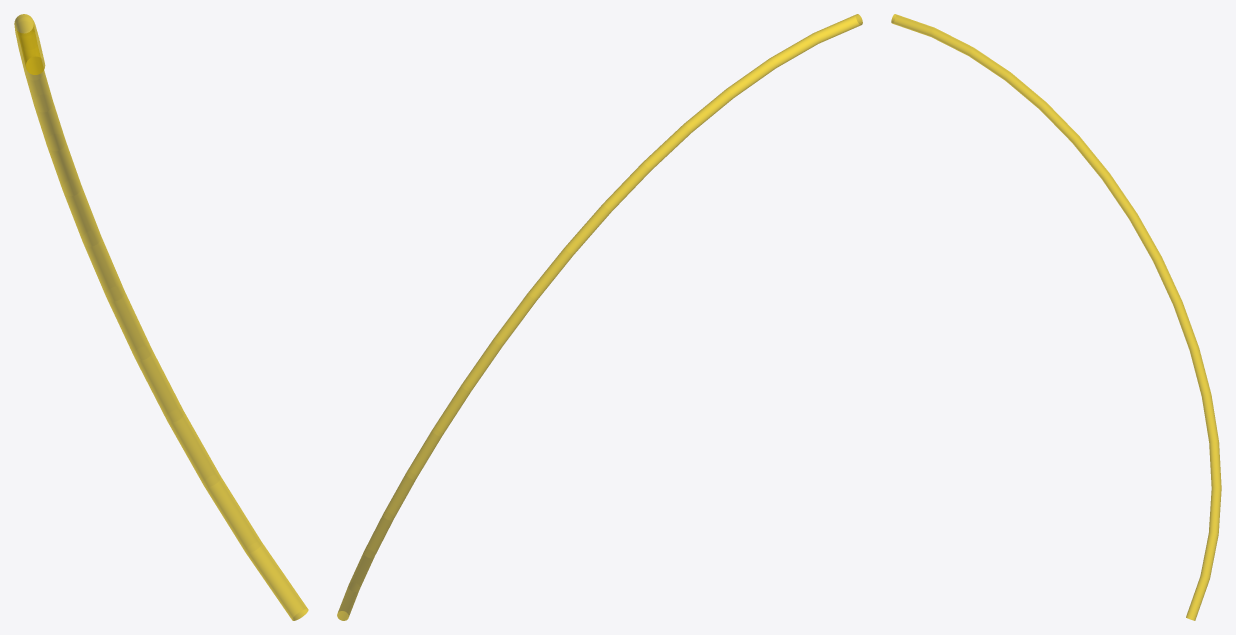
The model's file is Event_419990632_track_20.fbx.
3 views of the same model, side by side, from view 1: azimuth 30°, elevation 25°; view 2: azimuth 150°, elevation 25°; view 3: azimuth 270°, elevation 25° (orthographic). The views are drawn at different scales.
Visible parts, largest first — view 1: Model; view 2: Model; view 3: Model.
Boxes of the visible parts, x1,y1,x2,y2 form: Model: [14, 14, 308, 620]; Model: [337, 14, 862, 620]; Model: [891, 14, 1221, 620].
Size of the model in its own units: 1.34 by 2.05 by 1.31.
